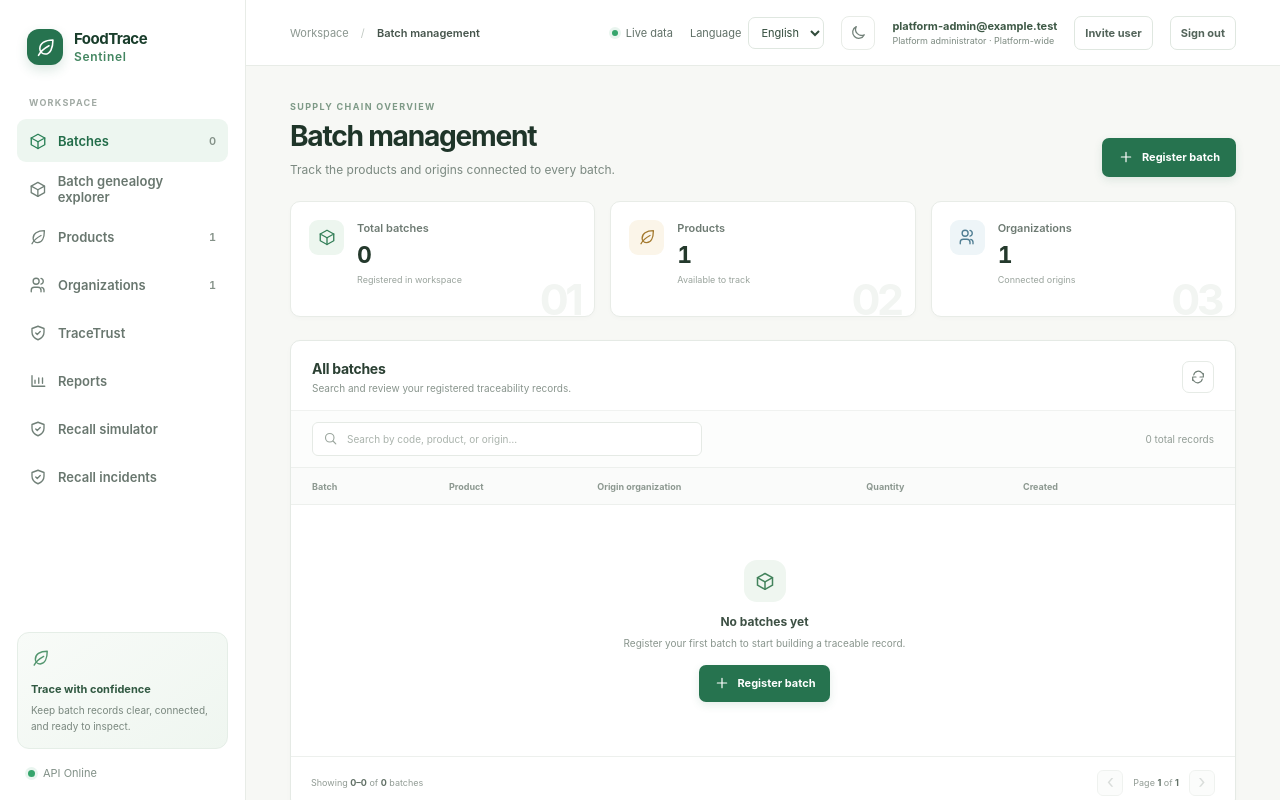
it: FoodTrace Sentinel batch dashboard › opens the Recall simulator workspace and loads selectable batch records
Check: the heading "Batch management" is shown, box [290,119,536,153]
What coordinates should you click on to do the following:
click the button "Recall simulator"
I would click on:
 (122, 428)
Its box is [17,407,228,450].
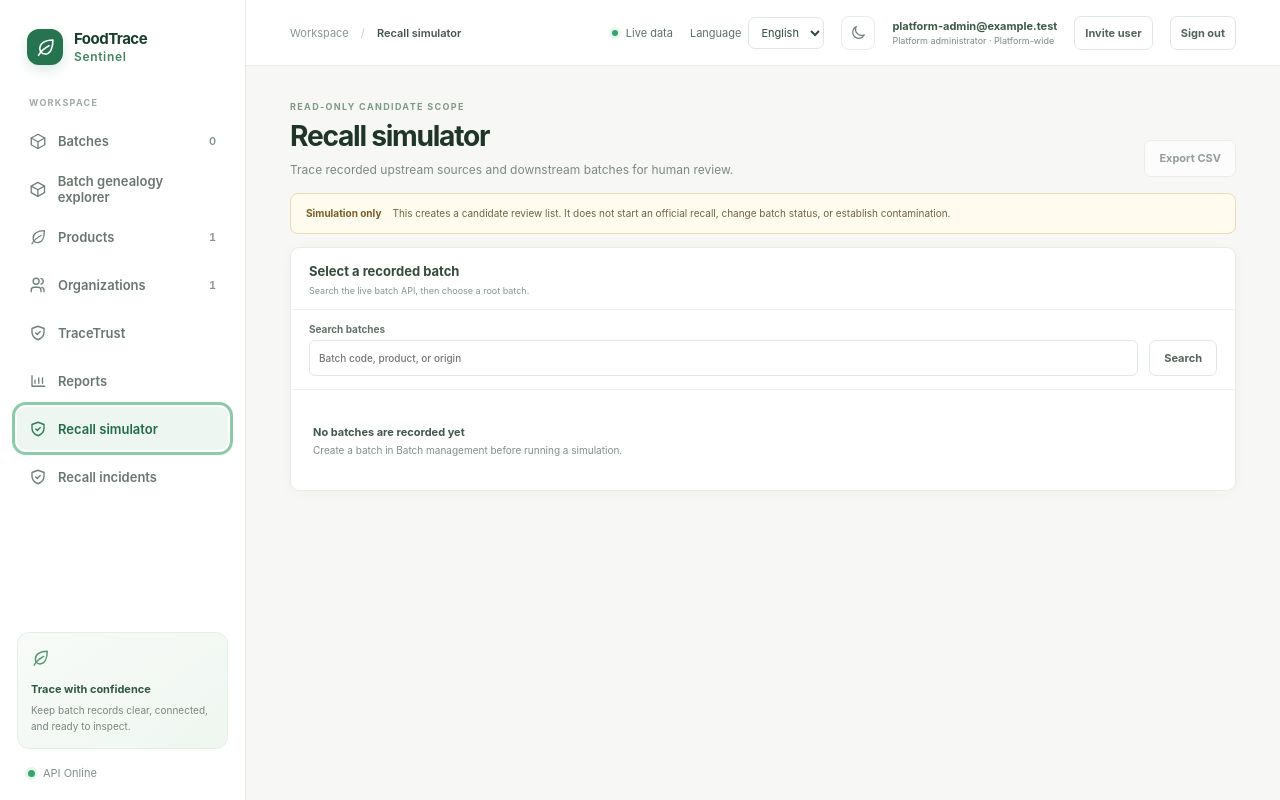
Check: the heading "Recall simulator" is shown, box [290,119,489,153]
Check: the text "No batches are recorded yet" is shown, box [313,425,465,439]
